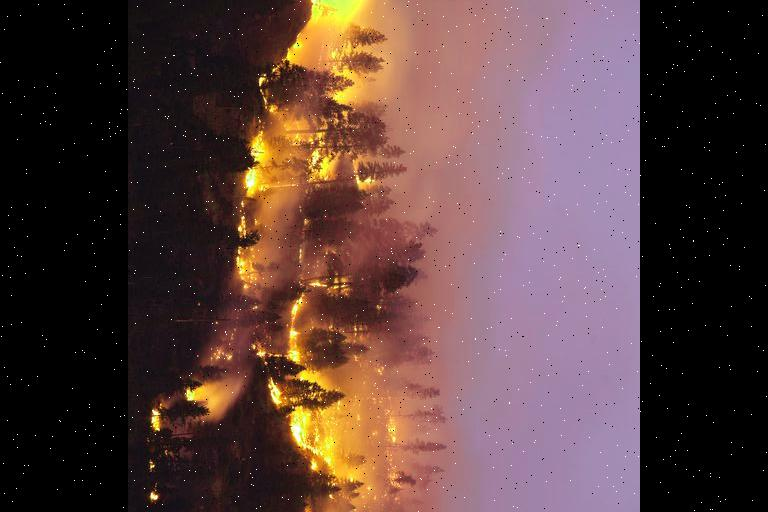fire: (227, 0, 452, 512)
